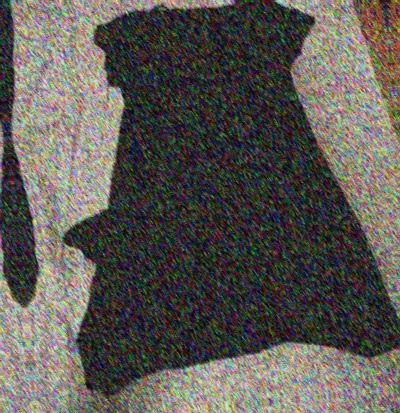Dress: (21, 0, 400, 389), (393, 0, 400, 352), (0, 5, 5, 413)
